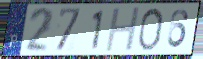1: (91, 9, 107, 51)
2: (25, 6, 55, 54)
6: (167, 8, 190, 50)
7: (55, 7, 83, 53)
H: (104, 6, 142, 54)
O: (136, 7, 165, 52)
